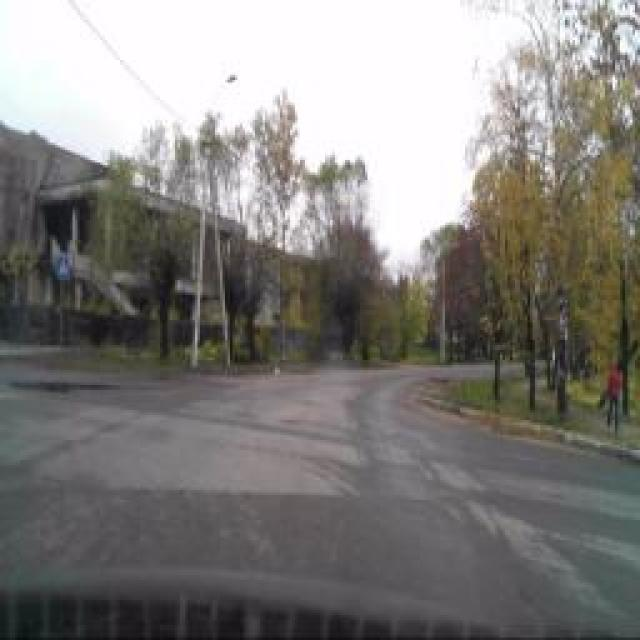sign: (56, 256, 69, 282)
